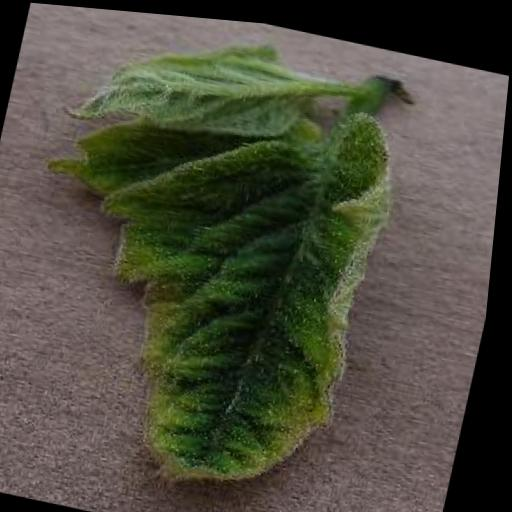Yellow Leaf Curl Virus: (0, 42, 416, 512)
